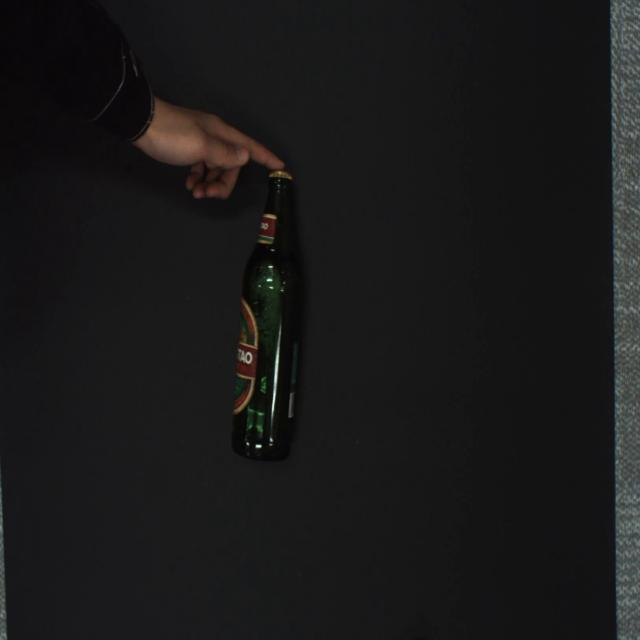beer-bottle: (231, 170, 304, 462)
